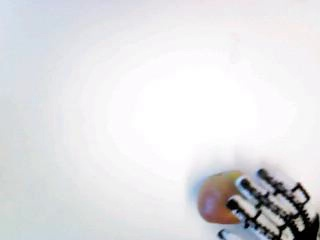apple: (197, 169, 252, 225)
hand: (216, 169, 318, 237)
